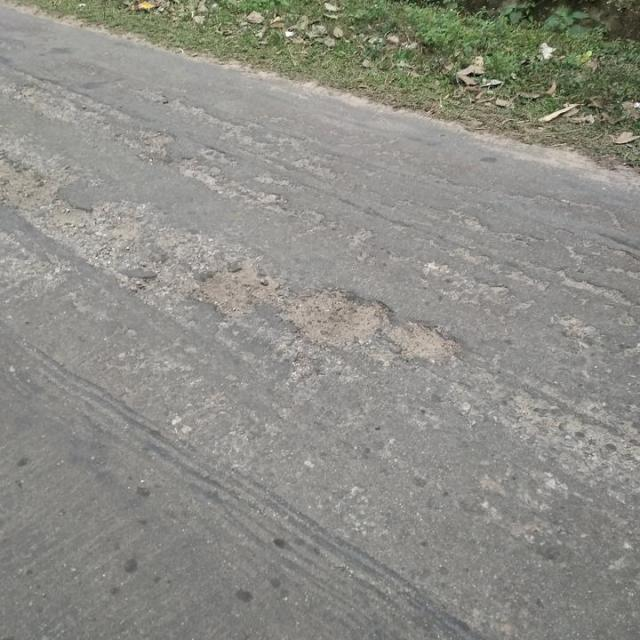Pothole: (281, 284, 399, 349), (197, 261, 289, 321), (386, 319, 463, 359), (2, 147, 51, 204)
